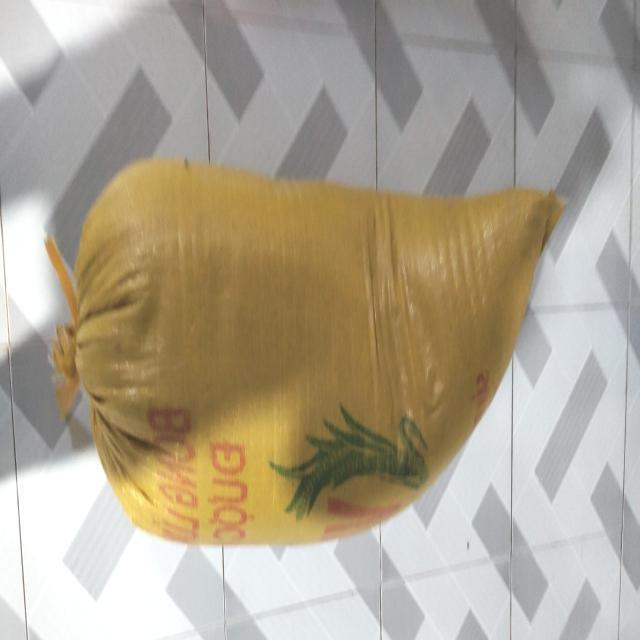gunny_bag: (45, 158, 564, 544)
